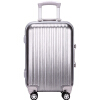luggage: (23, 0, 77, 100)
